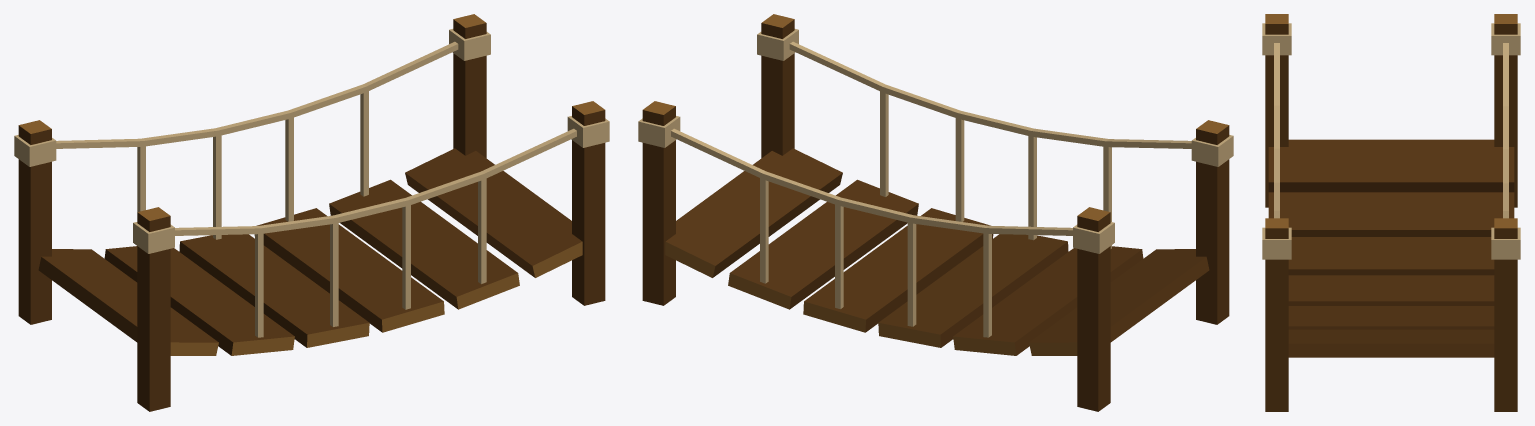
The model's file is ForestBridge_02.fbx.
3 views of the same model, side by side, from view 1: azimuth 30°, elevation 25°; view 2: azimuth 150°, elevation 25°; view 3: azimuth 270°, elevation 25° (orthographic). The views are drawn at different scales.
Visible parts, largest first — view 1: ForestBridge_02; view 2: ForestBridge_02; view 3: ForestBridge_02.
Boxes of the visible parts, left/top/right/bottom form: ForestBridge_02: left=14, top=14, right=609, bottom=411; ForestBridge_02: left=638, top=14, right=1233, bottom=411; ForestBridge_02: left=1262, top=14, right=1520, bottom=411.
Bounding box in the file's own units: 68.32 × 27.02 × 34.43.
